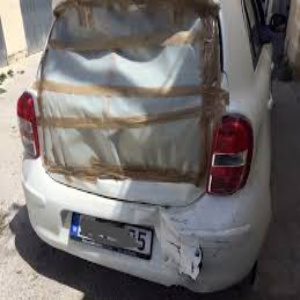bumper: (157, 210, 254, 294)
